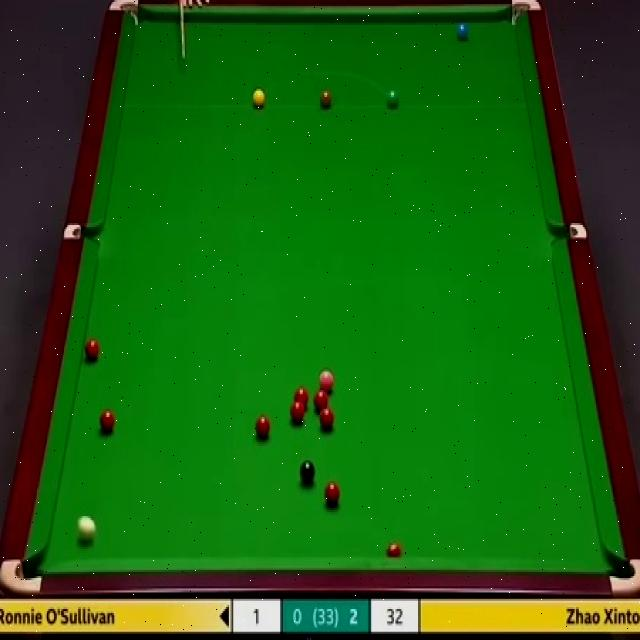black-ball: (300, 461, 317, 484)
blue-ball: (457, 22, 470, 41)
brown-ball: (320, 89, 334, 109)
green-ball: (385, 89, 400, 110)
pink-ball: (318, 367, 334, 392)
red-ball: (84, 338, 102, 363), (255, 414, 271, 442), (324, 481, 341, 506), (99, 409, 116, 434), (318, 405, 334, 430), (294, 386, 309, 410), (312, 389, 328, 411), (290, 402, 305, 424), (386, 542, 402, 558)
white-ball: (77, 513, 97, 547)
yellow-ball: (251, 88, 266, 109)
